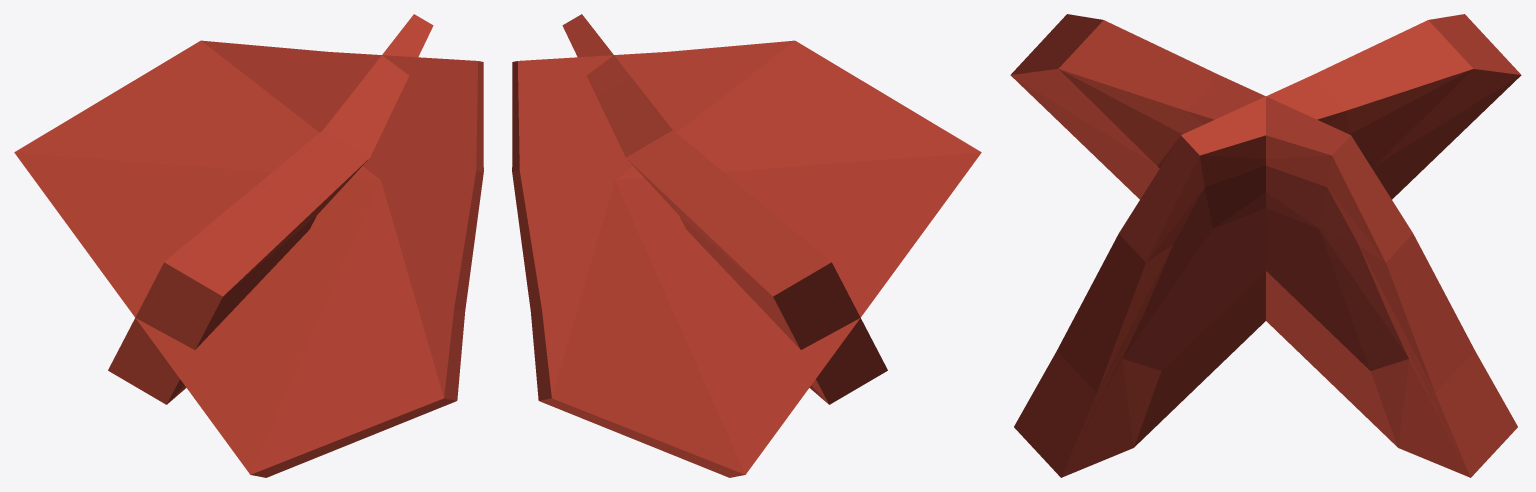
File: tf_elf_short.glb
The picture shows the model from 3 angles, left to right: view 1: azimuth 30°, elevation 25°; view 2: azimuth 150°, elevation 25°; view 3: azimuth 270°, elevation 25°; orthographic projection. The views are drawn at different scales.
Parts seen in each view (by area): view 1: Ear_R, Ear_L; view 2: Ear_L, Ear_R; view 3: Ear_L, Ear_R.
Part boxes in pixels (box(x1,y1,x2,y2)): Ear_R: box(14, 40, 483, 477); Ear_L: box(108, 14, 433, 404); Ear_L: box(512, 40, 981, 477); Ear_R: box(562, 14, 887, 404); Ear_L: box(1010, 14, 1517, 477); Ear_R: box(1014, 14, 1521, 477).
Size of the model in its own units: 0.0563 by 0.0507 by 0.051.
Materials: 1 (1 with a texture image).
